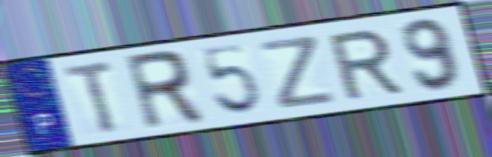5: (198, 41, 265, 117)
9: (399, 15, 464, 93)
R: (121, 47, 209, 134), (324, 26, 406, 103)
T: (61, 57, 123, 136)
Z: (257, 33, 339, 112)
